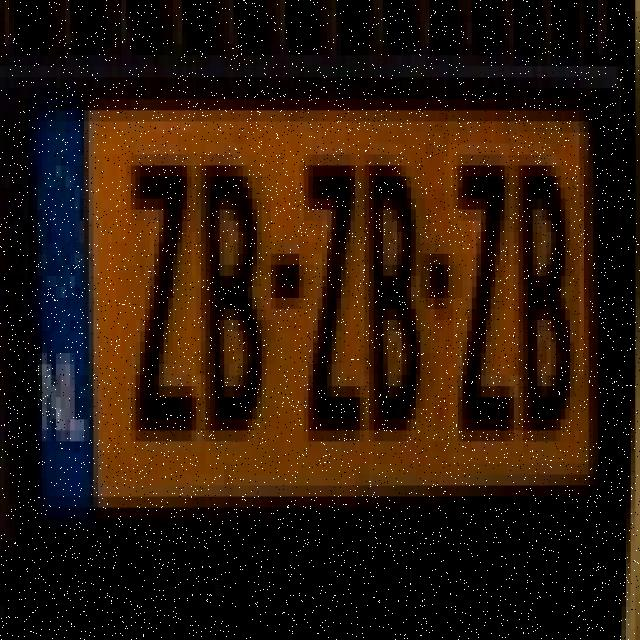licenseplate: (22, 59, 606, 572)
